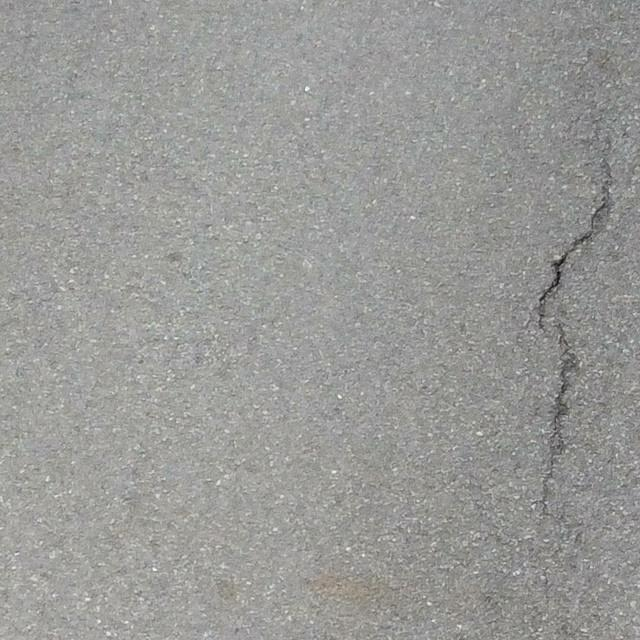LongitudinalCrack: (531, 153, 612, 515)
